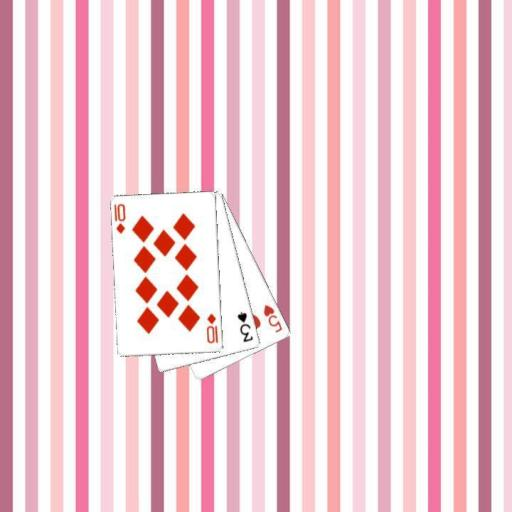card-corner: (260, 302, 284, 334), (234, 310, 254, 344), (204, 311, 220, 345), (112, 200, 127, 236)
